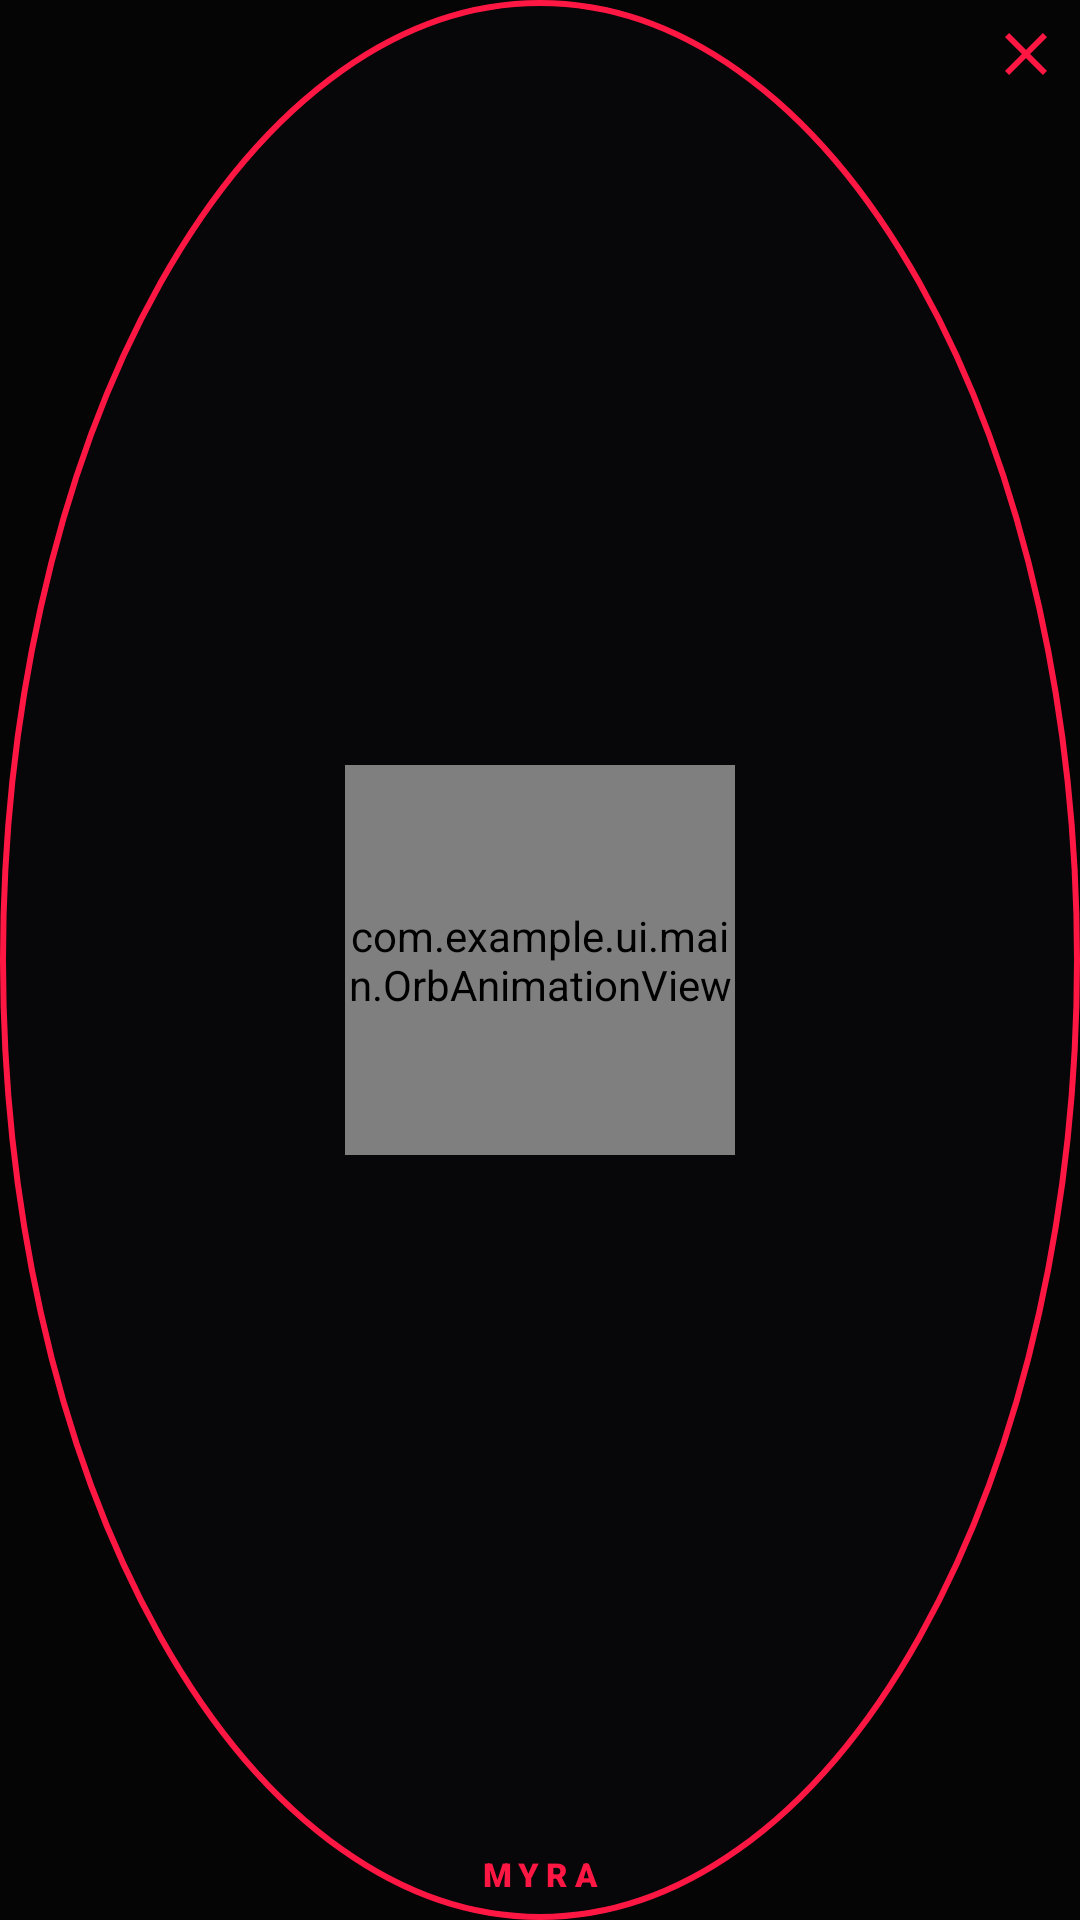

Icon click points for this 1080 × 1920 phone screenshot, format [x,y]:
Close Overlay: [1026,54]
